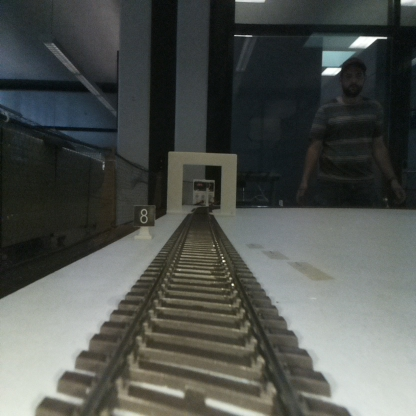black-stop-8: (133, 205, 154, 239)
